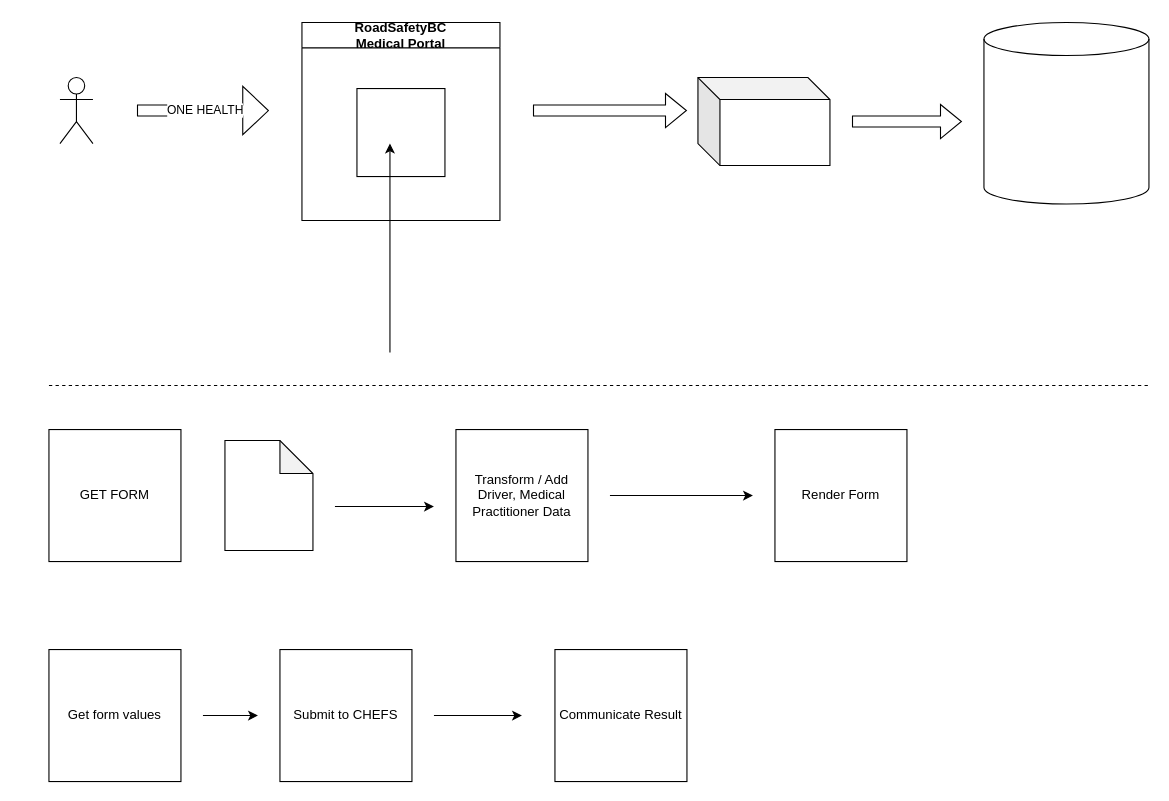
The diagram is 1169 pixels wide and 801 high, and some of its shapes have lost their labels. The shapes that lost their labels are listed below. From the top down, each one's centre as x and y in pixels, then its label:
At [76,110]: "Medical Practitioner".
At [763,121]: "CMS Adapter".
At [1066,112]: "Dynamics".
At [268,495]: "CHEFS".
